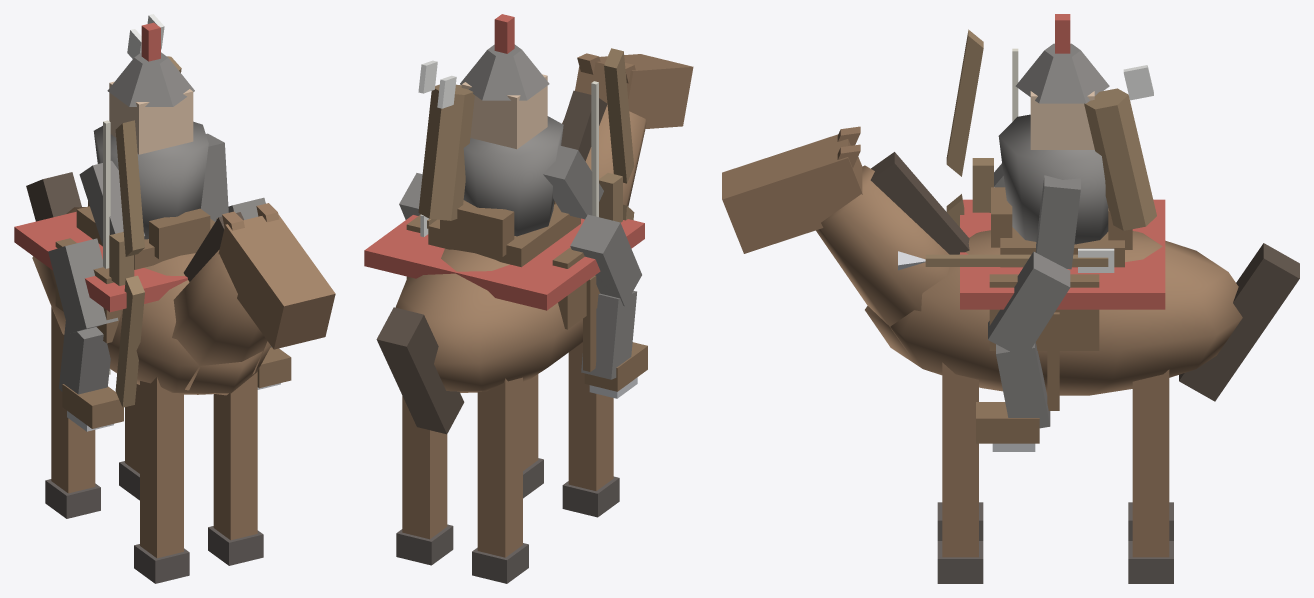
Rendered from troop-horse-archer.glb.
3 views of the same model, side by side, from view 1: azimuth 30°, elevation 25°; view 2: azimuth 150°, elevation 25°; view 3: azimuth 270°, elevation 25° (orthographic). The views are drawn at different scales.
Visible parts, largest first — view 1: head, body, leg_fl, leg_fr, neck, rider, saddle_cloth, leg_bl, rider_thigh_l, rider_head, helmet, rider_shin_l (+21 smaller); view 2: body, saddle_cloth, leg_bl, rider, quiver, tail, leg_br, leg_fl, head, rider_thigh_l, rider_head, helmet (+19 smaller); view 3: body, head, neck, saddle_cloth, rider, quiver, leg_br, leg_fr, tail, rider_thigh_r, mane, helmet (+13 smaller).
Boxes of the visible parts, left/top/right/bottom form: head: left=218, top=214, right=335, bottom=349; body: left=32, top=207, right=270, bottom=394; leg_fl: left=140, top=377, right=183, bottom=558; leg_fr: left=213, top=371, right=257, bottom=540; neck: left=172, top=250, right=267, bottom=395; rider: left=93, top=121, right=208, bottom=239; saddle_cloth: left=14, top=211, right=187, bottom=312; leg_bl: left=51, top=306, right=95, bottom=493; rider_thigh_l: left=48, top=238, right=118, bottom=333; rider_head: left=109, top=81, right=193, bottom=154; helmet: left=107, top=52, right=194, bottom=106; rider_shin_l: left=59, top=321, right=110, bottom=394; body: left=395, top=248, right=582, bottom=392; saddle_cloth: left=364, top=215, right=644, bottom=310; leg_bl: left=477, top=377, right=522, bottom=557; rider: left=463, top=116, right=563, bottom=236; quiver: left=418, top=60, right=474, bottom=220; tail: left=376, top=307, right=464, bottom=434; leg_br: left=402, top=396, right=447, bottom=539; leg_fl: left=568, top=342, right=613, bottom=490; head: left=575, top=54, right=693, bottom=128; rider_thigh_l: left=570, top=214, right=641, bottom=306; rider_head: left=461, top=74, right=547, bottom=149; helmet: left=460, top=44, right=549, bottom=100; body: left=865, top=230, right=1242, bottom=395; head: left=722, top=134, right=862, bottom=253; neck: left=816, top=165, right=949, bottom=361; saddle_cloth: left=960, top=199, right=1165, bottom=309; rider: left=998, top=114, right=1108, bottom=244; quiver: left=1084, top=65, right=1156, bottom=230; leg_br: left=1132, top=369, right=1169, bottom=557; leg_fr: left=942, top=362, right=978, bottom=557; tail: left=1179, top=243, right=1299, bottom=401; rider_thigh_r: left=988, top=251, right=1070, bottom=358; mane: left=870, top=152, right=969, bottom=254; helmet: left=1015, top=43, right=1109, bottom=103.
Size of the model in its own units: 0.162 by 0.39 by 0.3792.
